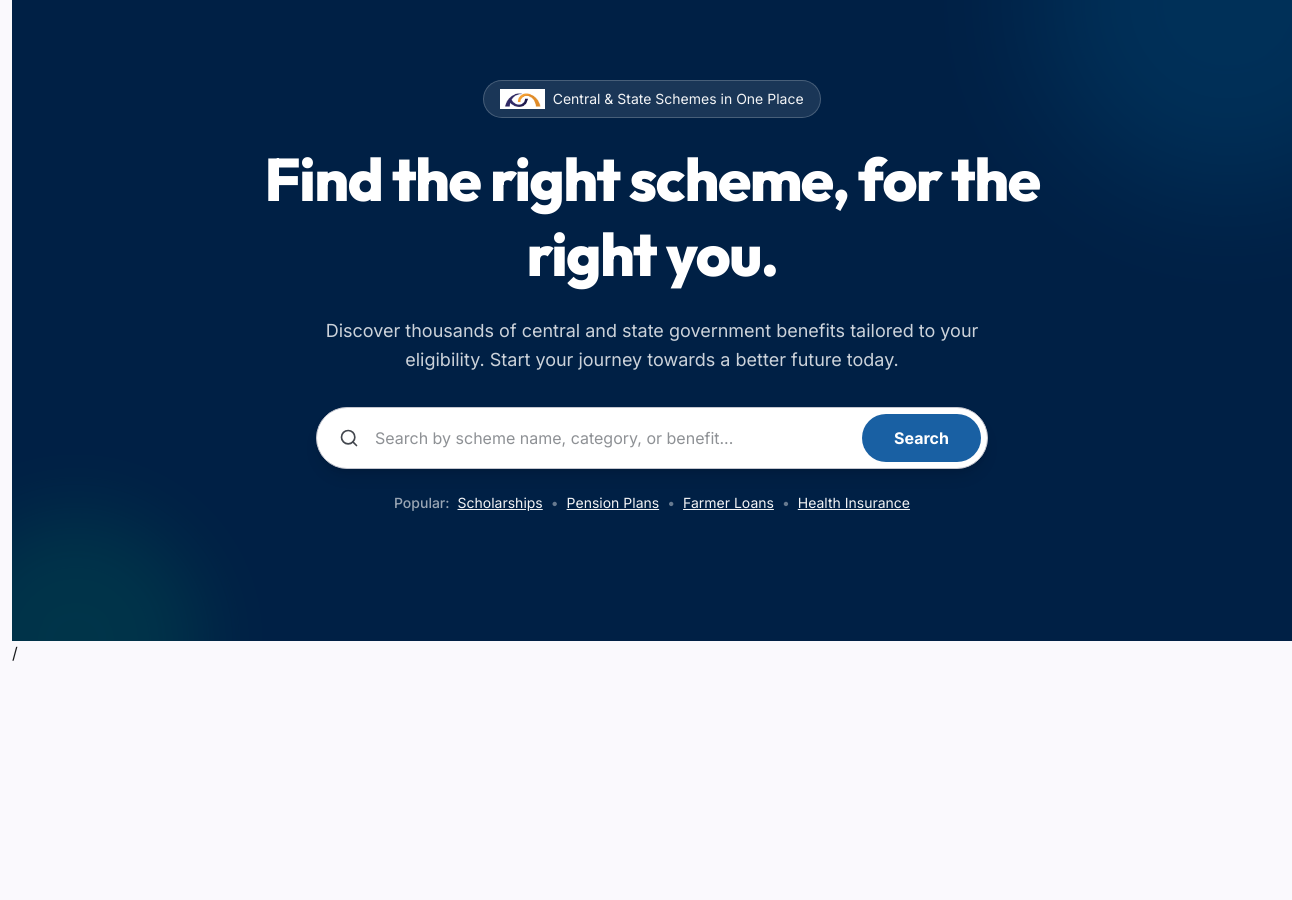
Test: the home page search box and chips open Search, not the login page › the scholarships chip opens that topic
This screenshot has width=1292, height=900.
Click the button "Scholarships" at (500, 502), box top-left (458, 492), bottom-right (543, 512)
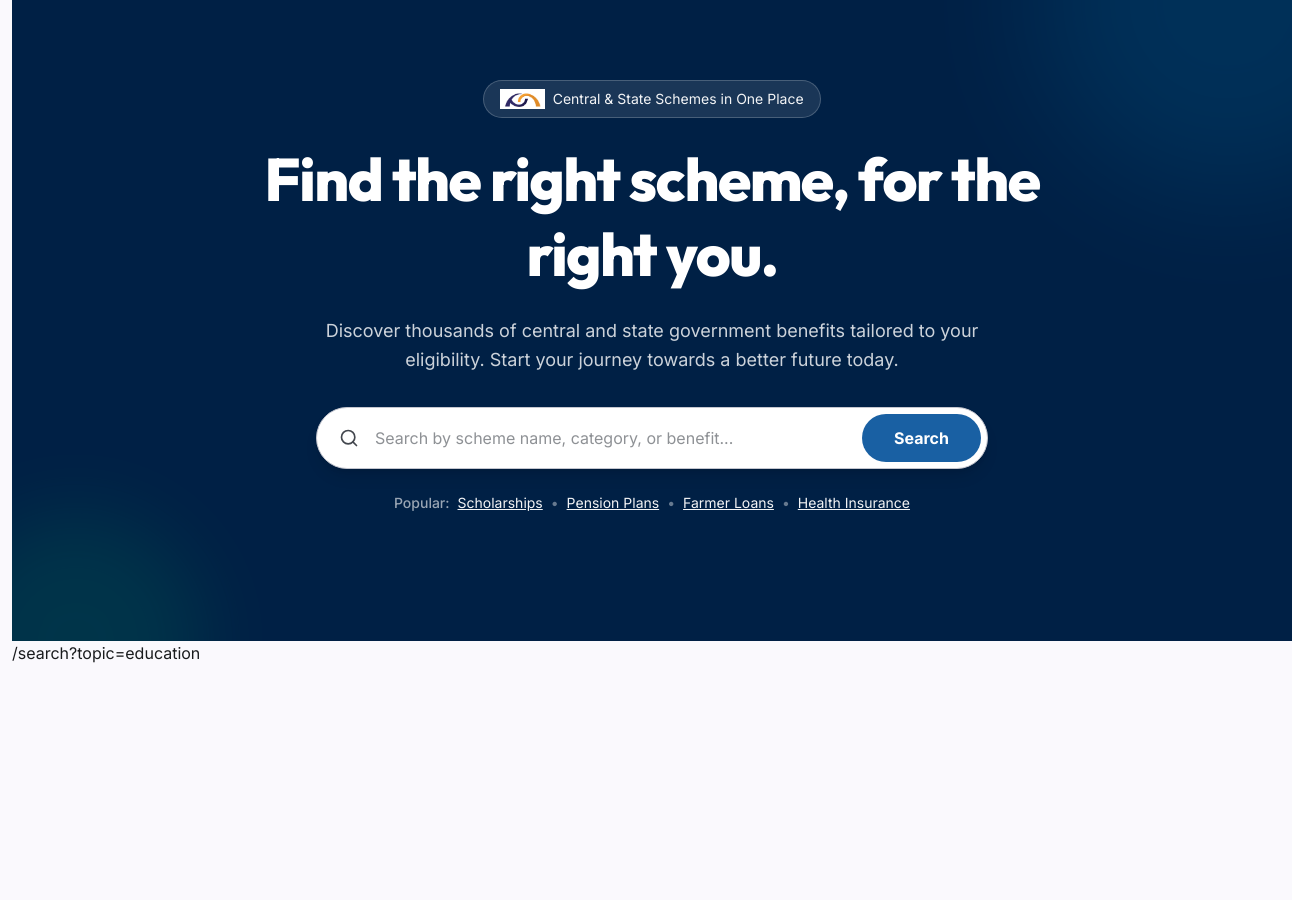
Check: the text with test id "where" reads "/search?topic=education", box top-left (12, 642), bottom-right (200, 662)
